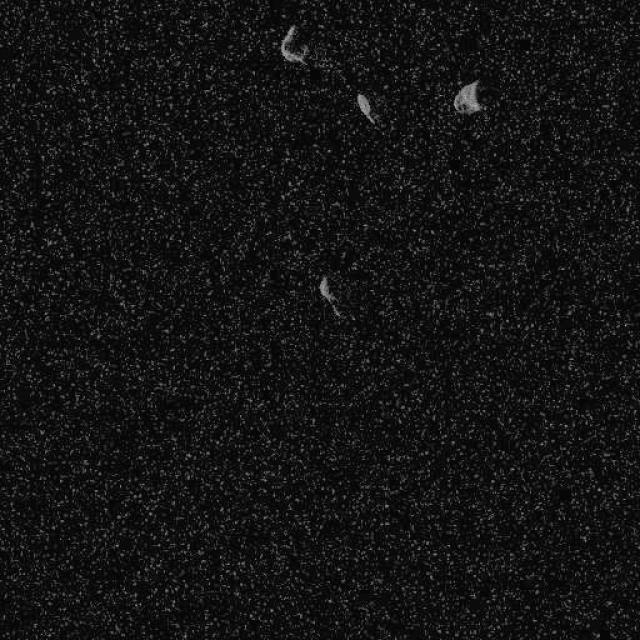D2: (279, 22, 309, 64), (452, 77, 483, 115), (316, 274, 342, 318), (355, 91, 377, 125)
